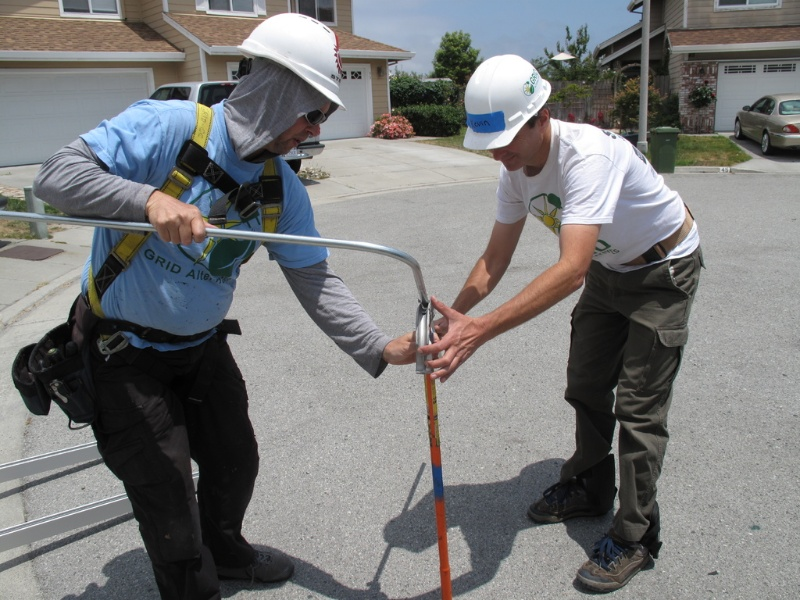Baret: (237, 12, 347, 107), (464, 54, 551, 150)
